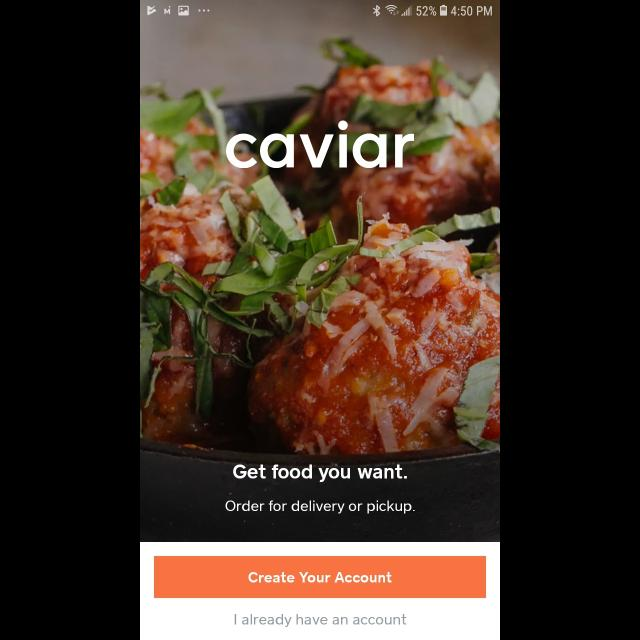backgroundimage: (140, 18, 500, 542)
text: (226, 121, 414, 169), (233, 464, 407, 482), (225, 500, 415, 514), (235, 613, 407, 627)
textbutton: (154, 556, 486, 598)
uppertaskbar: (140, 1, 500, 18)
